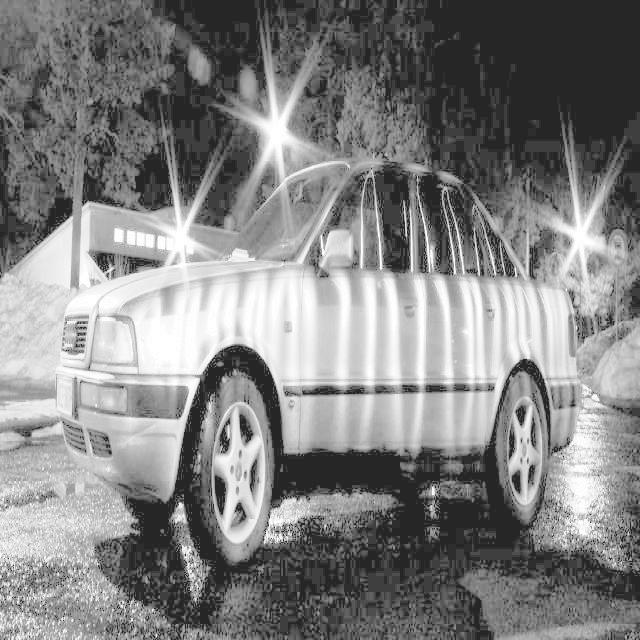Car: (46, 144, 589, 557)
